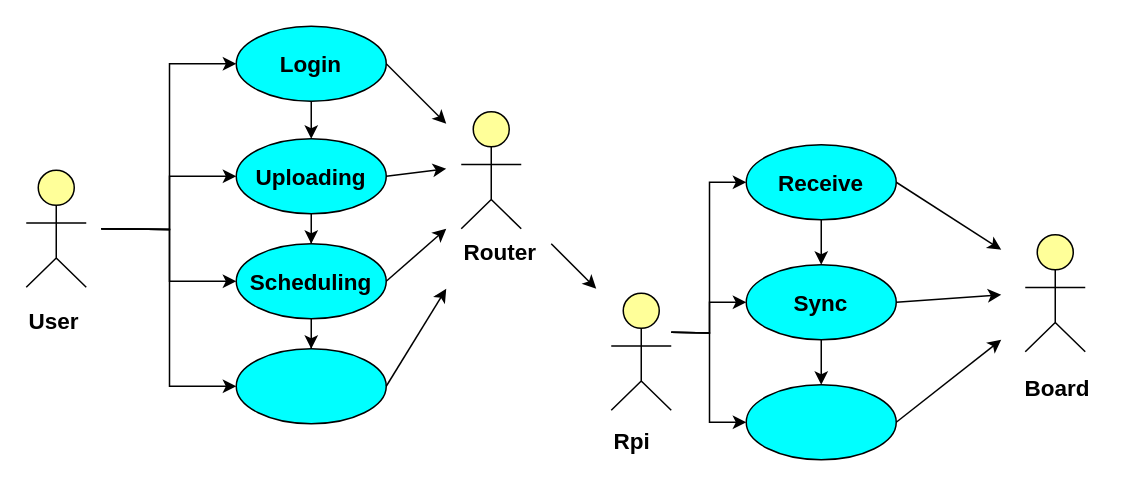
The diagram is 1124 pixels wide and 486 high, and some of its shapes have lost their labels. Here are the shapes that lost their labels. From the top down, the centre of each, then its label:
At point (310, 385): "Logout".
At point (820, 421): "Transmit".
